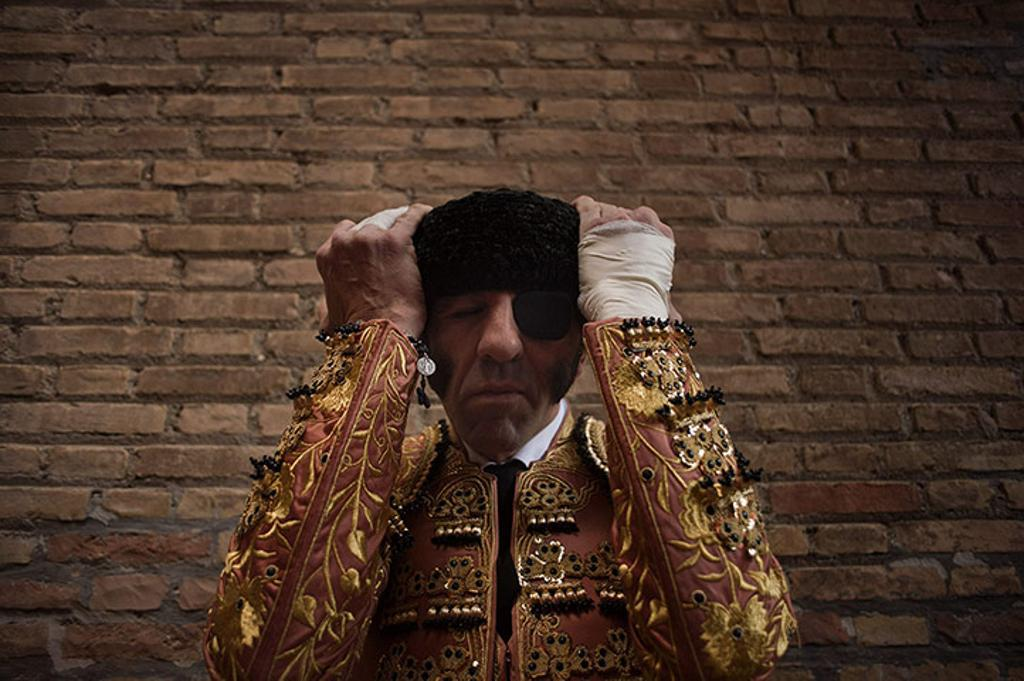face: (421, 271, 587, 443)
